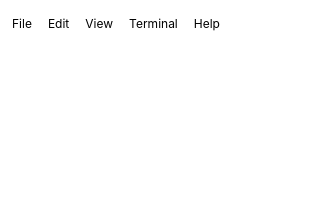
Test: MenuBar — dropdowns › closes the open dropdown on Escape
The image size is (320, 204).
Click the button "File" at (22, 24), box [4, 16, 40, 32]
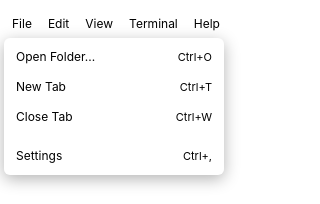
Press Escape
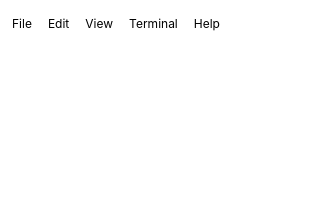
Expected: the button "Open Folder..." is gone
